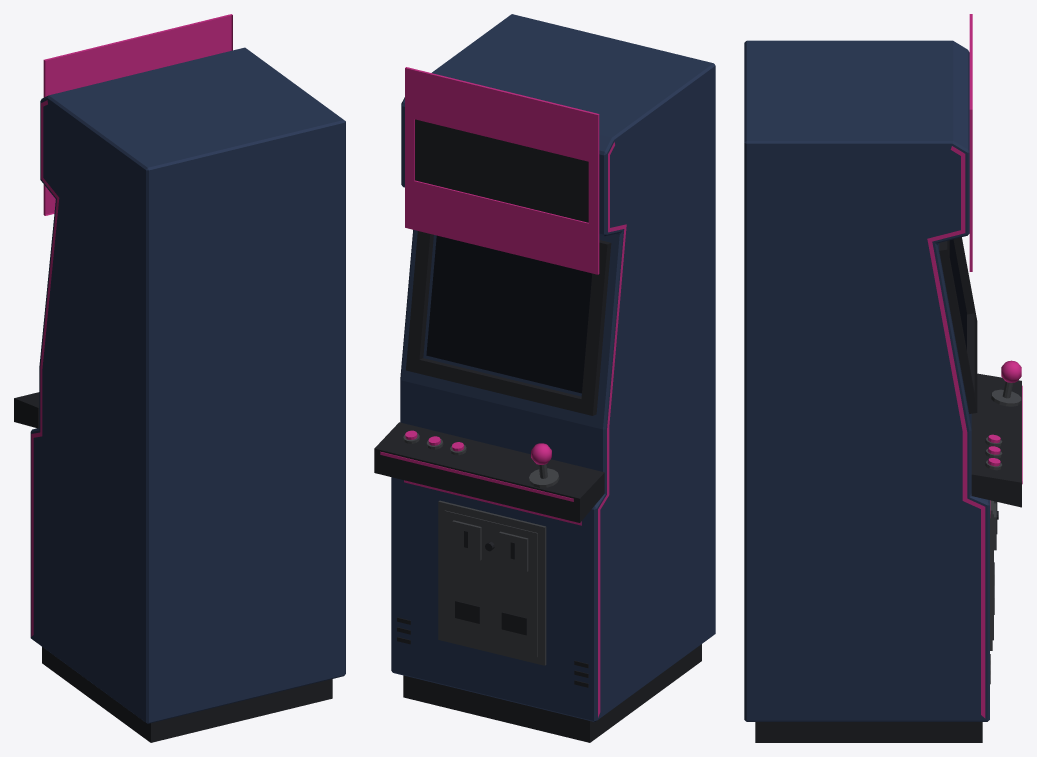
File: ArcadeCabinet.fbx
The picture shows the model from 3 angles, left to right: view 1: azimuth 30°, elevation 25°; view 2: azimuth 150°, elevation 25°; view 3: azimuth 270°, elevation 25°; orthographic projection. The views are drawn at different scales.
Parts seen in each view (by area): view 1: CabinetBody; view 2: CabinetBody, ScreenSurface, MarqueePanel; view 3: CabinetBody, ScreenSurface.
Part boxes in pixels (x1,y1,x2,y2): CabinetBody: (14,14,345,742); CabinetBody: (374,14,715,742); ScreenSurface: (426,235,592,393); MarqueePanel: (415,119,588,222); CabinetBody: (744,14,1022,742); ScreenSurface: (949,239,966,349).
Bounding box in the file's own units: 0.6608 × 1.92 × 0.7618.
